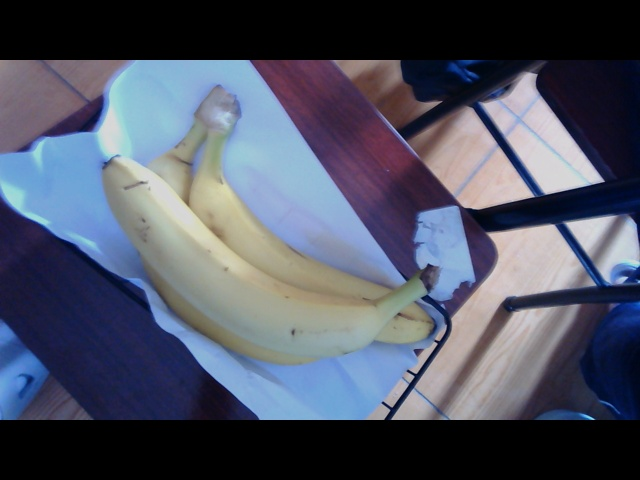banana: (93, 118, 430, 371)
